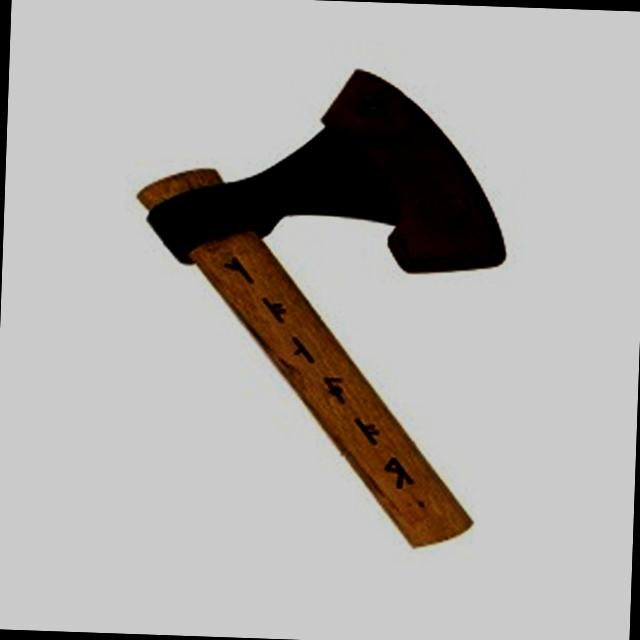ax: (111, 50, 522, 569)
